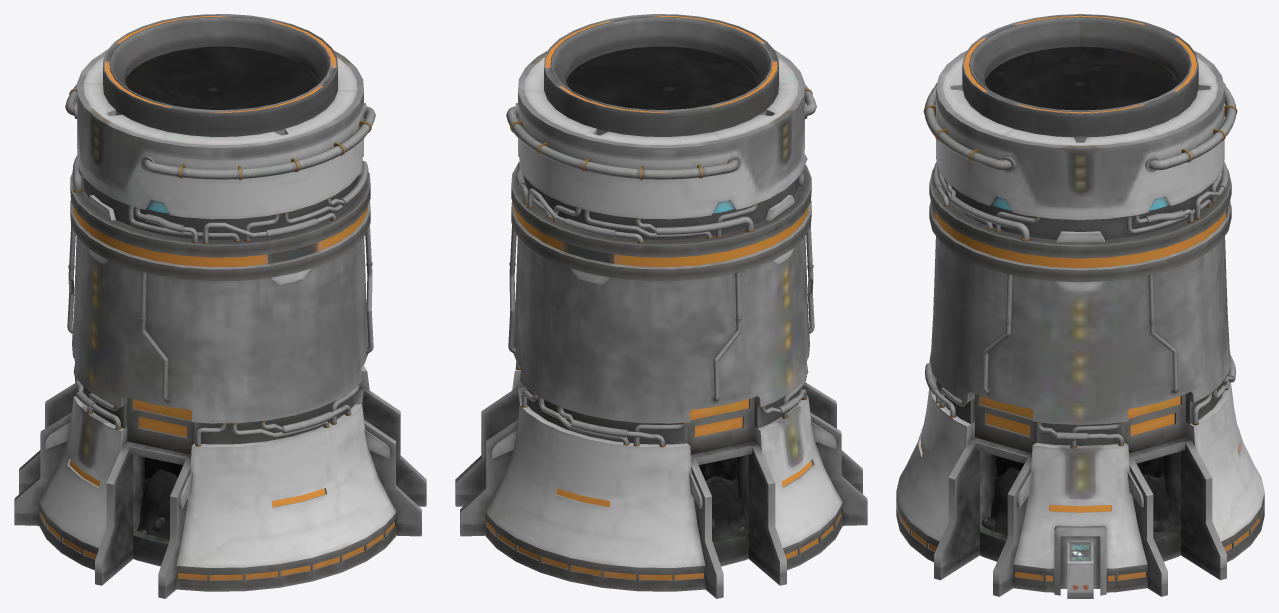
File: SM_BlastFurnaceFuturistic_fcaedc.glb
The picture shows the model from 3 angles, left to right: view 1: azimuth 30°, elevation 25°; view 2: azimuth 150°, elevation 25°; view 3: azimuth 270°, elevation 25°; orthographic projection.
Size of the model in its own units: 2.97 by 3.81 by 2.81.
1 material, 1 textured.
